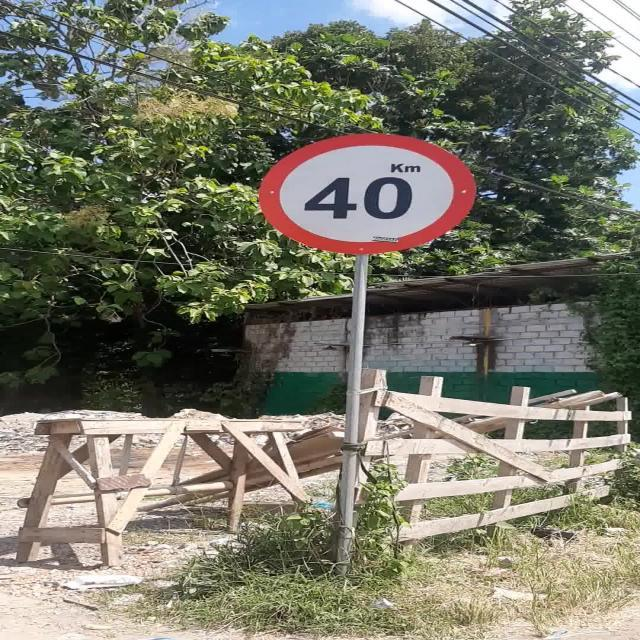Kecepatan Maks. 40 km: (258, 132, 476, 255)
